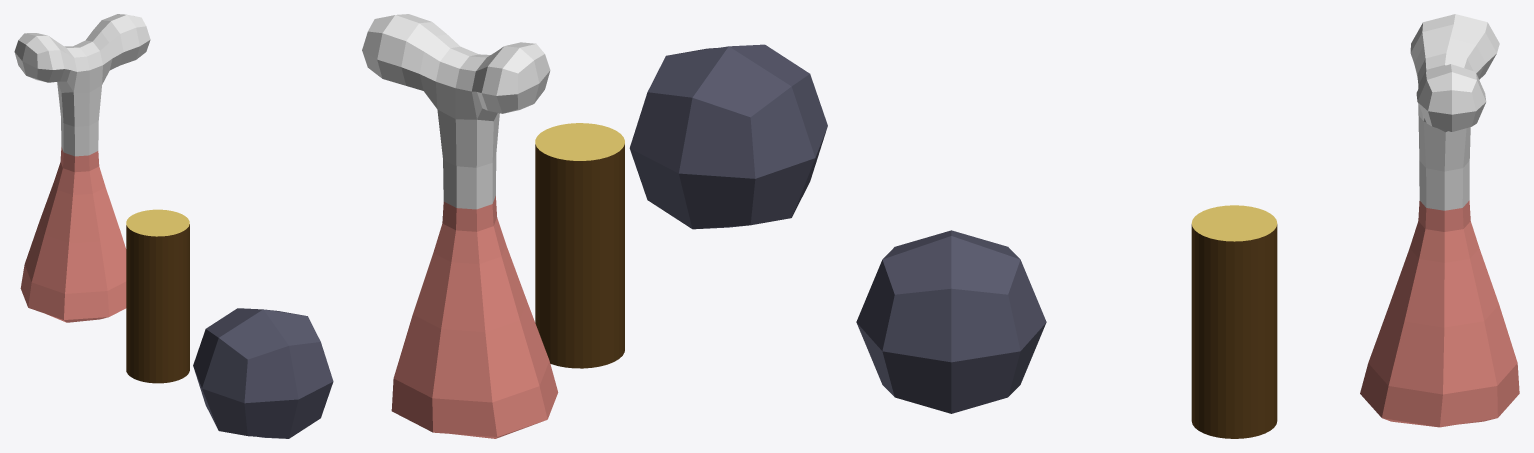
File: Items.glb
The picture shows the model from 3 angles, left to right: view 1: azimuth 30°, elevation 25°; view 2: azimuth 150°, elevation 25°; view 3: azimuth 270°, elevation 25°; orthographic projection. The views are drawn at different scales.
Visible parts, largest first — view 1: Cube.001, Cube, Cylindre; view 2: Cube.001, Cube, Cylindre; view 3: Cube.001, Cube, Cylindre.
Boxes of the visible parts, x1,y1,x2,y2 form: Cube.001: [14, 14, 150, 322]; Cube: [193, 308, 333, 438]; Cylindre: [126, 209, 189, 383]; Cube.001: [362, 14, 558, 438]; Cube: [629, 44, 827, 229]; Cylindre: [535, 123, 624, 368]; Cube.001: [1360, 14, 1519, 427]; Cube: [856, 230, 1046, 413]; Cylindre: [1191, 205, 1277, 438].
Bounding box in the file's own units: 2.2 × 4.56 × 7.18.
